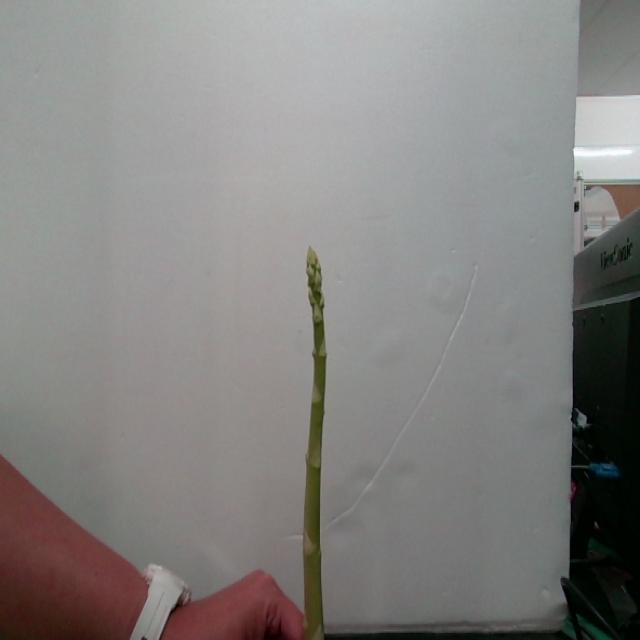aspargus: (302, 249, 328, 640)
